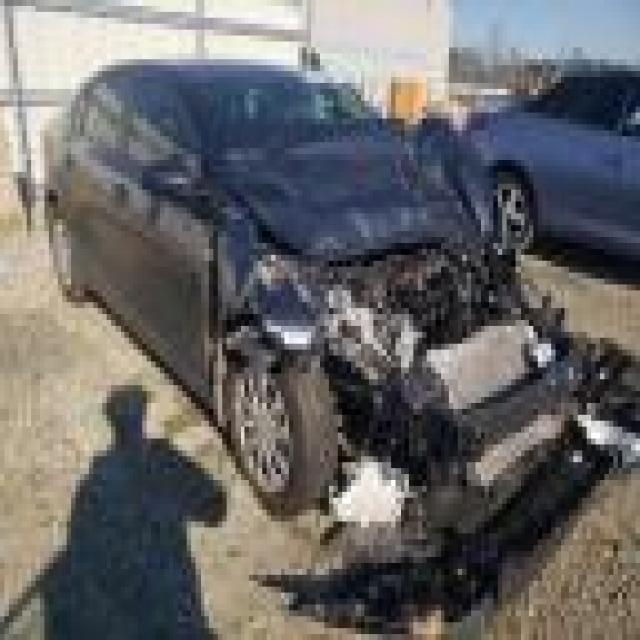moderate: (209, 130, 640, 616)
